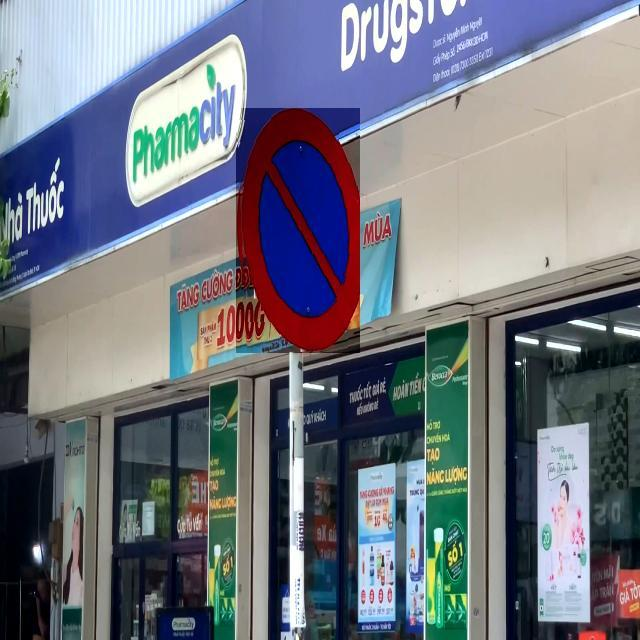P-131a: (237, 108, 361, 353)
